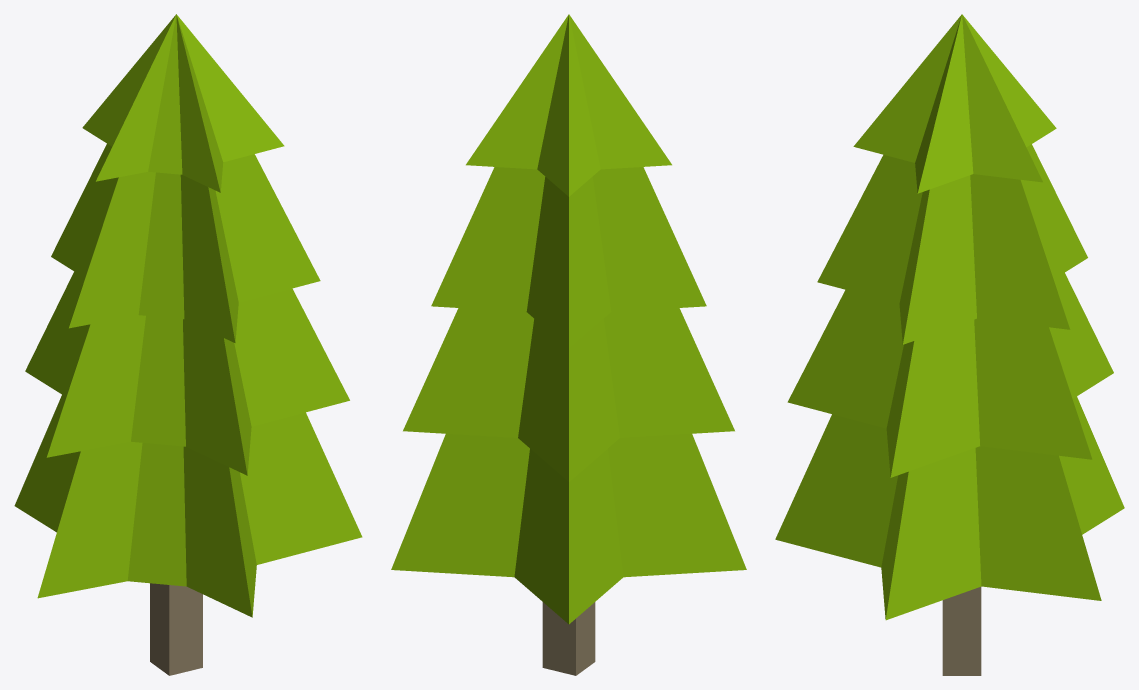
Rendered from tree_pine_star_6.fbx.
The picture shows the model from 3 angles, left to right: view 1: azimuth 30°, elevation 25°; view 2: azimuth 150°, elevation 25°; view 3: azimuth 270°, elevation 25°; orthographic projection.
Parts seen in each view (by area): view 1: tree_pine_star_6; view 2: tree_pine_star_6; view 3: tree_pine_star_6.
Part boxes in pixels (x1,y1,x2,y2): tree_pine_star_6: [14, 14, 362, 675]; tree_pine_star_6: [391, 14, 746, 675]; tree_pine_star_6: [775, 14, 1124, 675].
Bounding box in the file's own units: 113 × 229 × 111.
